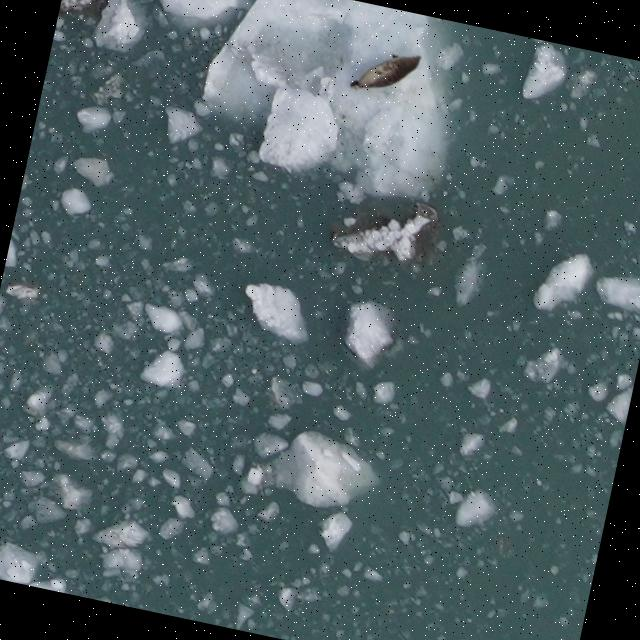seal: (345, 39, 426, 104)
